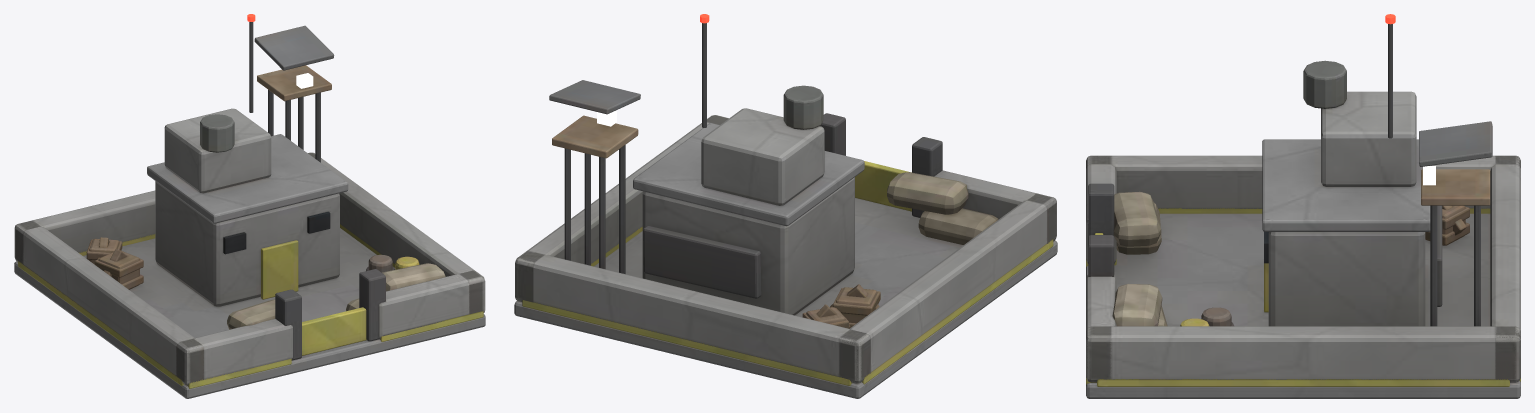
Rendered from map-base.glb.
The picture shows the model from 3 angles, left to right: view 1: azimuth 30°, elevation 25°; view 2: azimuth 150°, elevation 25°; view 3: azimuth 270°, elevation 25°; orthographic projection. The views are drawn at different scales.
Parts seen in each view (by area): view 1: map_base; view 2: map_base; view 3: map_base.
Boxes of the visible parts, <box> form: map_base: <box>14,22,485,398</box>; map_base: <box>514,23,1057,398</box>; map_base: <box>1086,24,1520,398</box>.
Size of the model in its own units: 1 by 0.7975 by 1.
3 materials, 1 textured.
